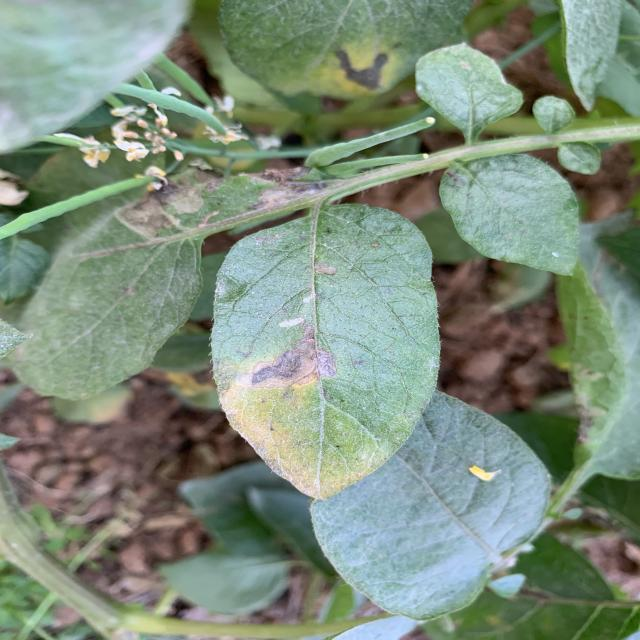lateblight: (237, 324, 337, 388)
